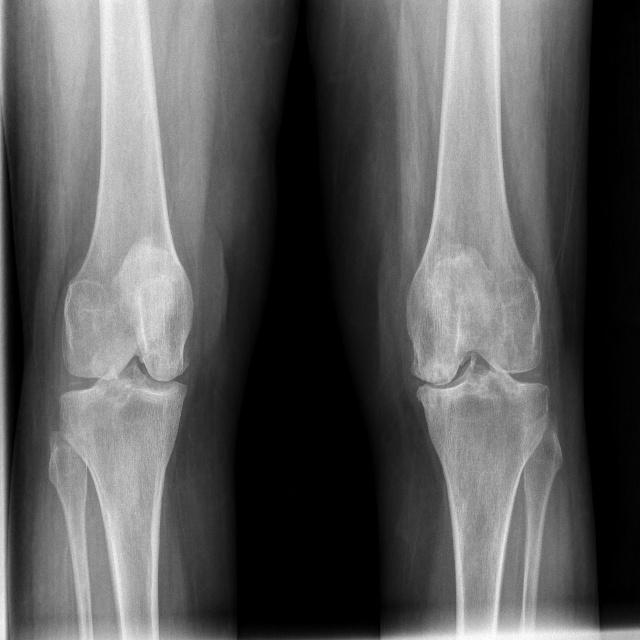Knee: (403, 284, 549, 442), (56, 279, 195, 443)
